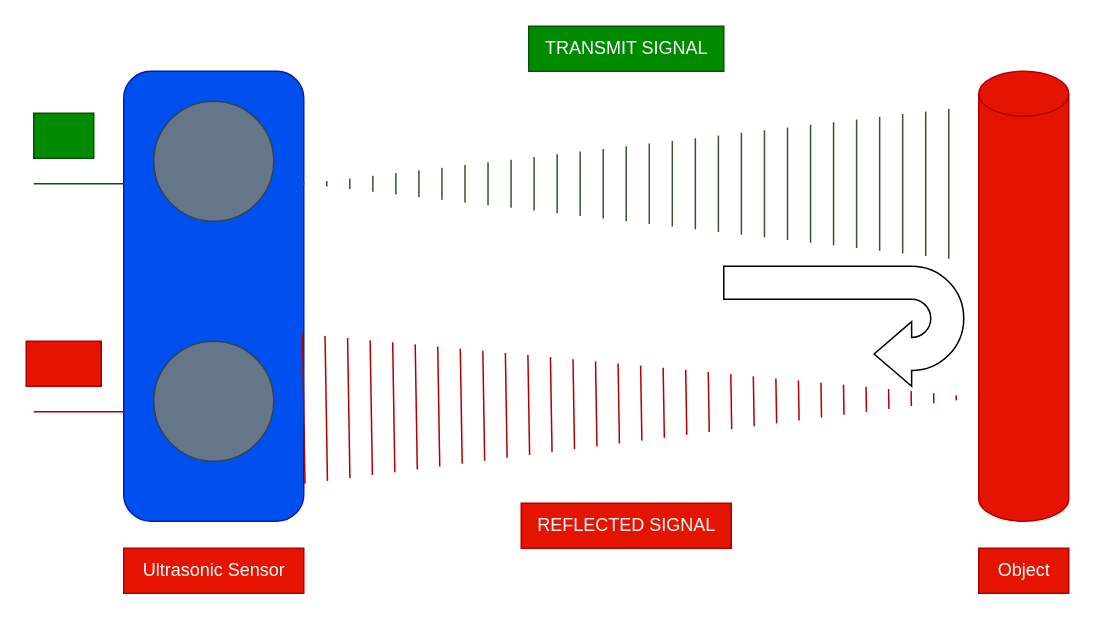
This 1095x620 diagram has some shape labels left out. The shapes that lost their labels are listed below. From the top down, each one's centre as x and y in pixels, then its label:
the point at 63,135: Trig
the point at 63,363: Echo
